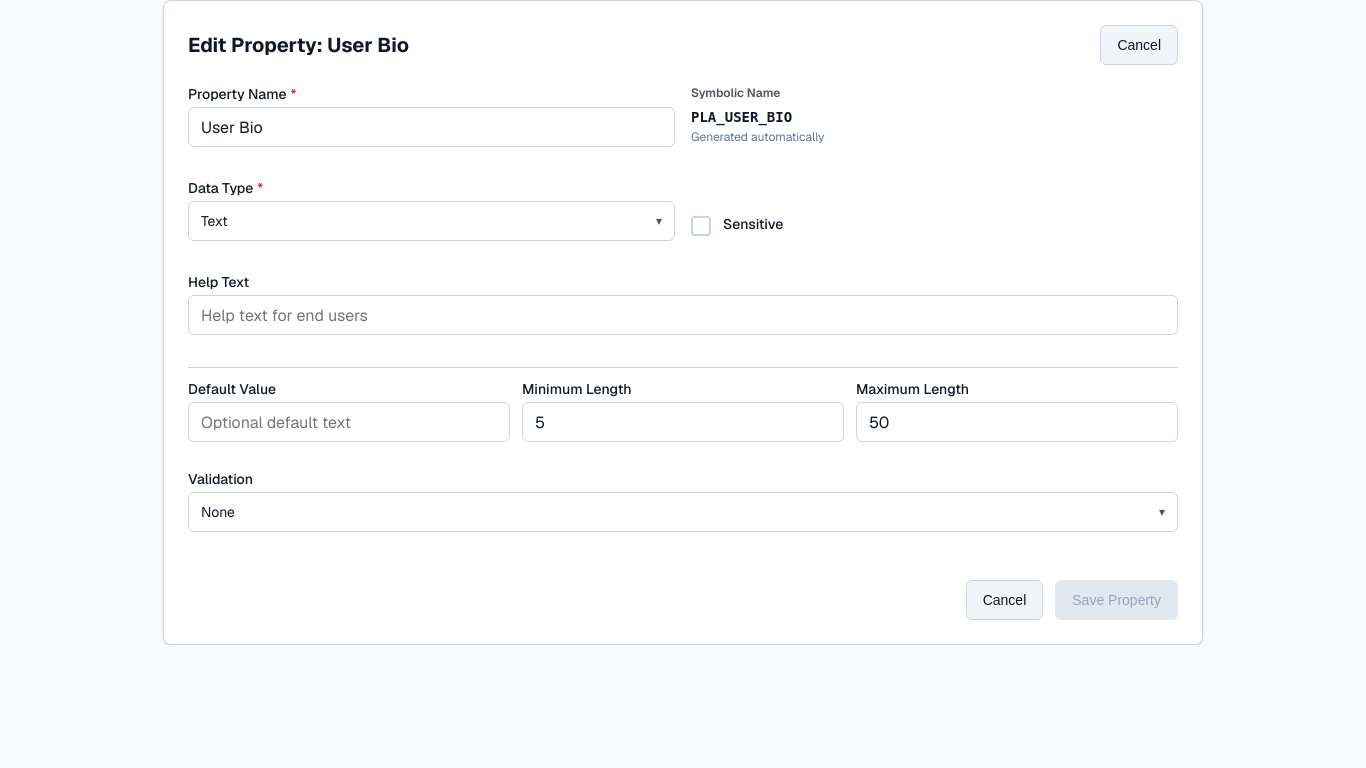
INC-03C7 Studio UI Components & Final Data Tab Test Suite › 8. Property Dirty-State Detection & Navigation Reset › does not mutate dirty Property state when Cancel is clicked; opens modal and preserves values
Replace the text in the number field labelled "Minimum Length" with "25" at (683, 422), box [522,402,844,442]
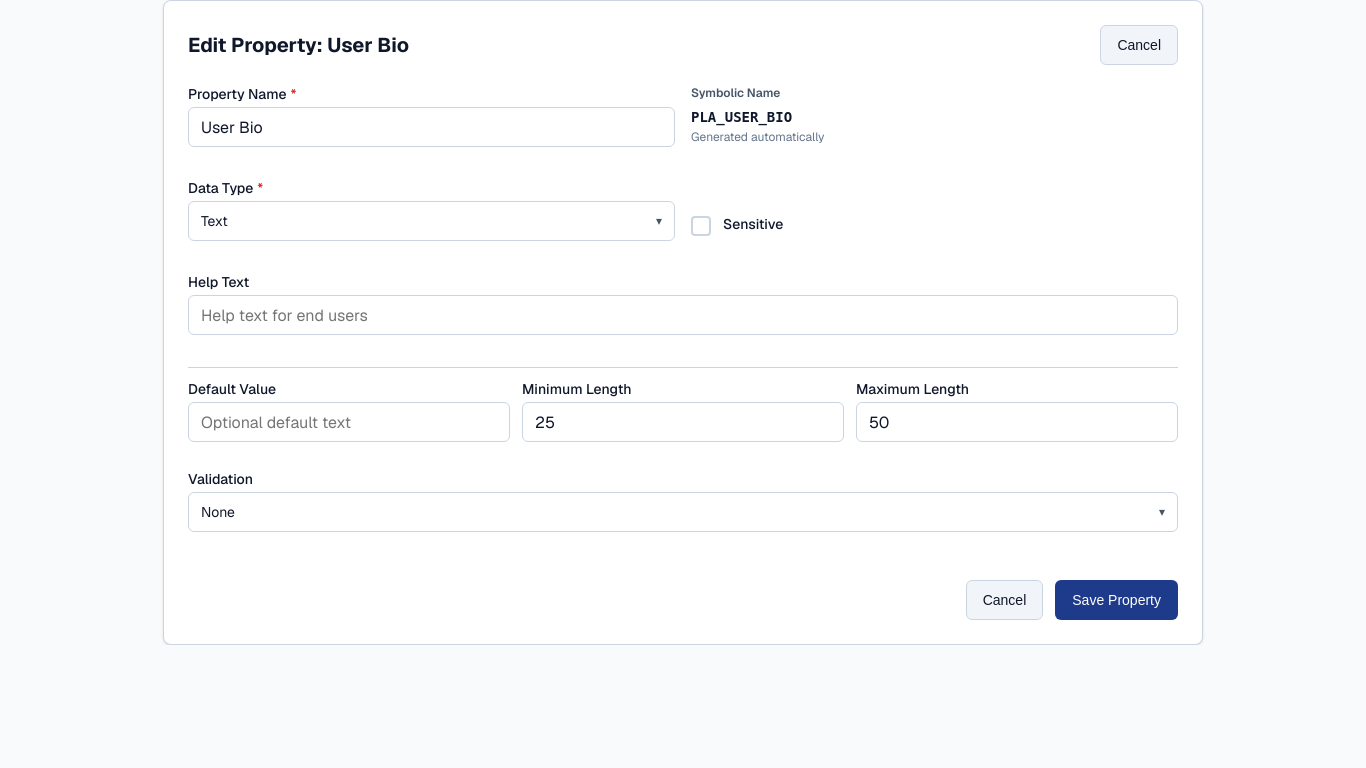
Click the button "Cancel" in the row of "Edit Property: User Bio" at (1139, 45), box [1100,25,1178,65]
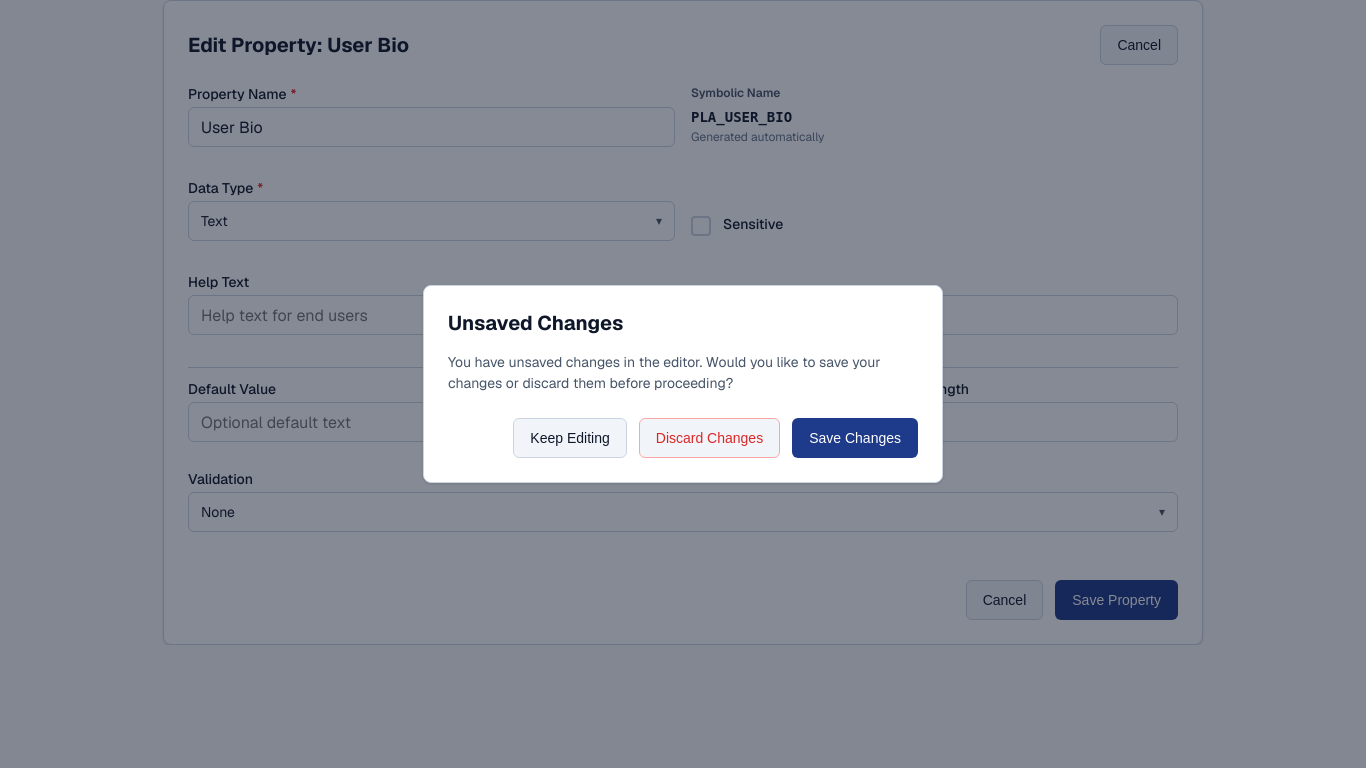
expect the heading "Unsaved Changes" is shown: met, box [448,310,623,336]
Click the button "Keep Editing" at (570, 438), box [513,418,627,458]
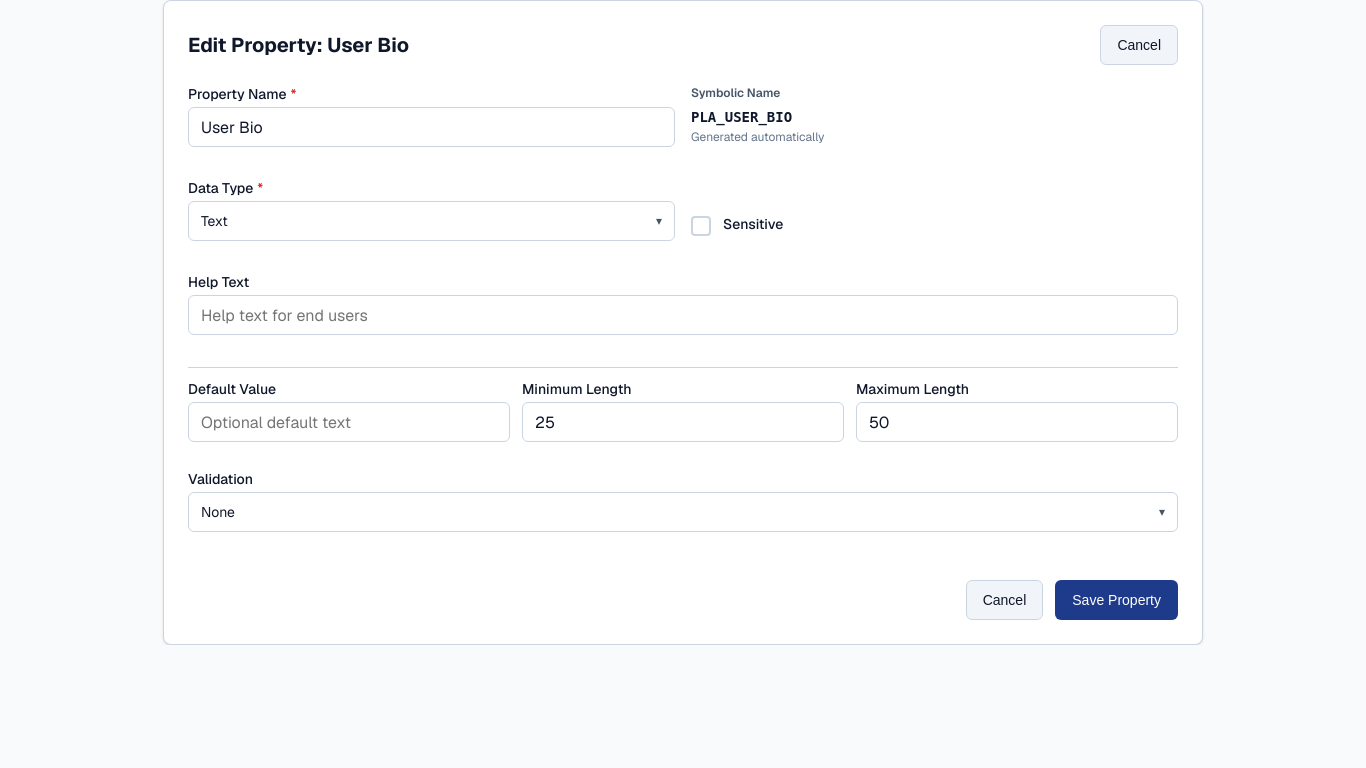
expect the heading "Unsaved Changes" is gone: met
